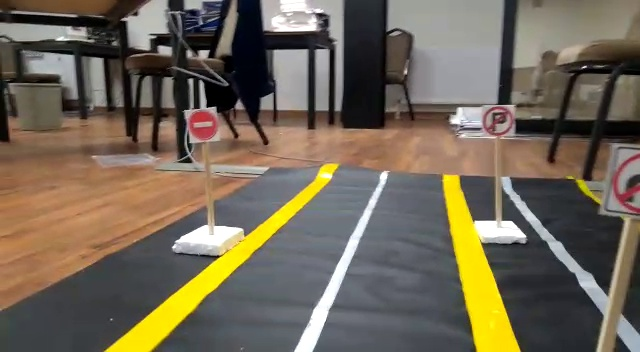girisi_olmayan_yol: (186, 106, 219, 140)
park_yapilmaz: (480, 102, 516, 139)
saga_donulmez: (610, 147, 640, 211)
